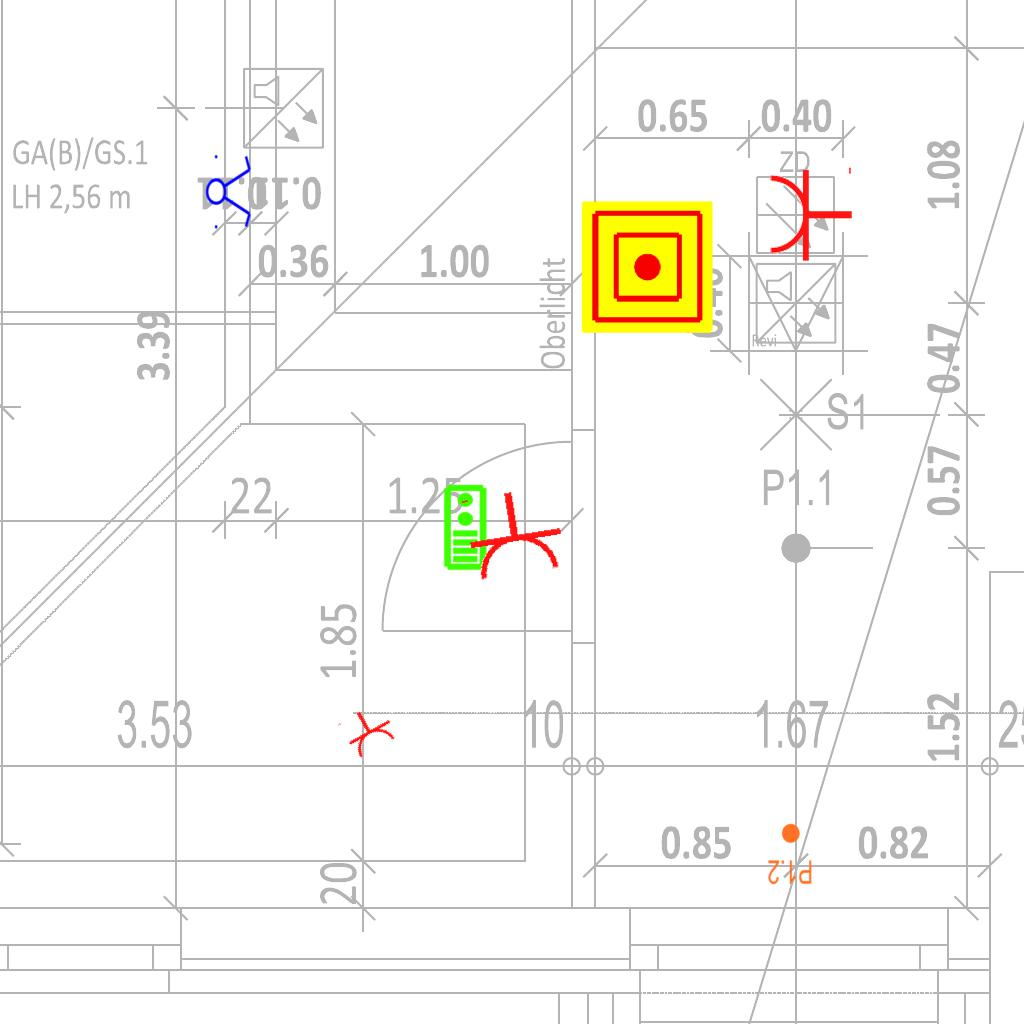Downlight_LED_Einbauleuchten_Flur: (767, 822, 813, 886)
Gegensprechanlage_mit_Video: (441, 483, 488, 571)
NAM-Nichtautomatischer_Melder: (581, 201, 713, 333)
Schukosteckdose_einfach: (456, 483, 569, 585), (767, 163, 854, 263), (335, 700, 400, 762)
Serienschalter: (205, 149, 253, 233)
